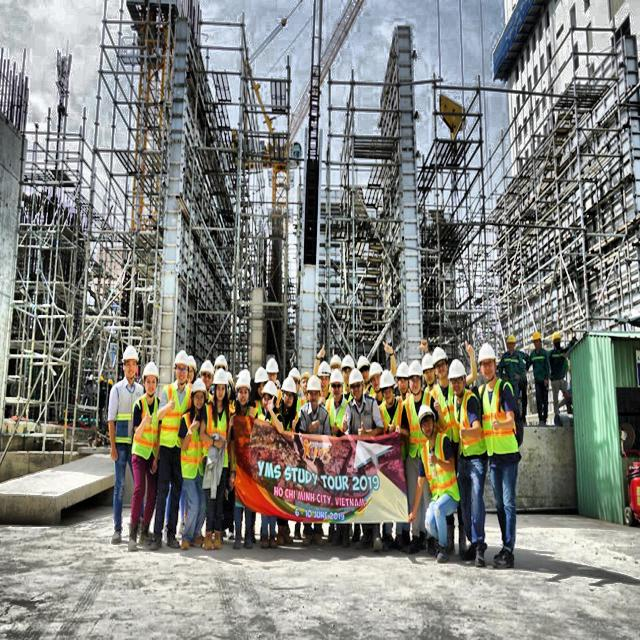safety_helmet: (476, 340, 500, 368), (120, 342, 141, 368), (416, 402, 438, 425), (142, 358, 162, 382), (448, 360, 468, 383), (418, 350, 436, 372), (212, 368, 230, 389), (253, 360, 268, 385), (235, 373, 252, 395), (306, 377, 325, 396), (378, 369, 396, 389), (313, 358, 333, 376), (283, 379, 300, 398), (394, 359, 410, 378), (172, 353, 187, 373), (201, 356, 215, 376), (408, 358, 421, 379), (264, 384, 280, 401), (191, 381, 206, 399), (433, 346, 448, 364), (218, 349, 230, 369), (370, 362, 384, 378), (342, 352, 356, 368), (356, 352, 368, 370), (269, 356, 280, 374), (290, 368, 304, 382), (184, 359, 197, 373), (331, 356, 344, 370)
safety_jacket: (479, 376, 522, 462), (113, 378, 144, 459), (422, 436, 460, 502), (127, 398, 161, 461), (451, 392, 481, 457), (401, 396, 428, 461), (162, 384, 186, 448), (207, 405, 231, 463), (181, 421, 202, 475), (418, 392, 442, 436), (437, 383, 456, 435), (378, 401, 402, 436), (232, 399, 260, 421)
